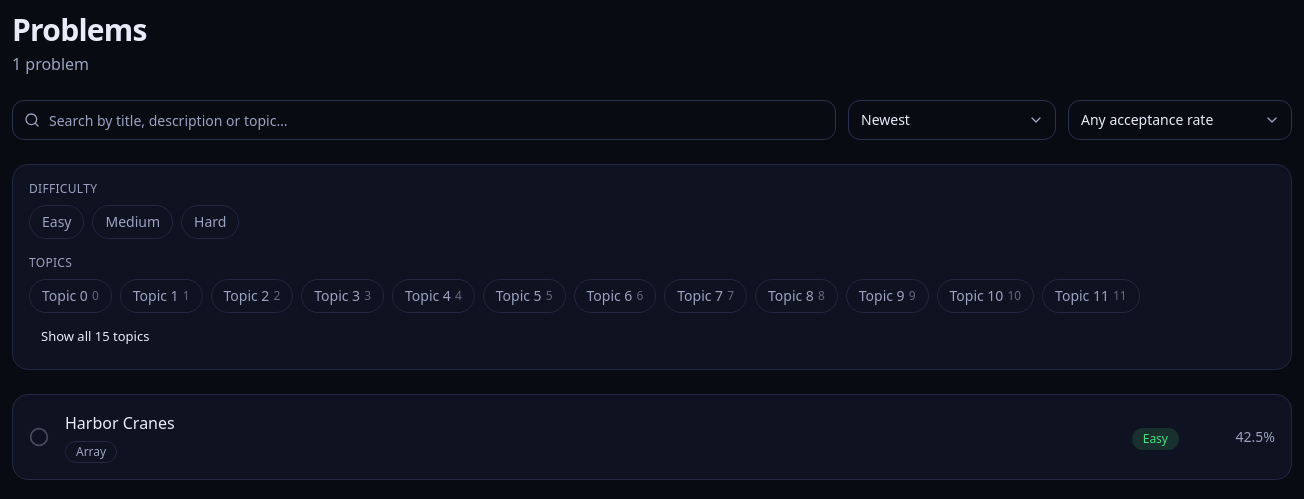
ProblemsBrowser › collapses the topic list and can show all of them
Check: the button "Topic 14" is not shown
What coordinates should you click on to do the following:
click the button "Show all 15 topics"
I would click on:
 (95, 337)
Its box is x1=29 y1=321 x2=161 y2=353.
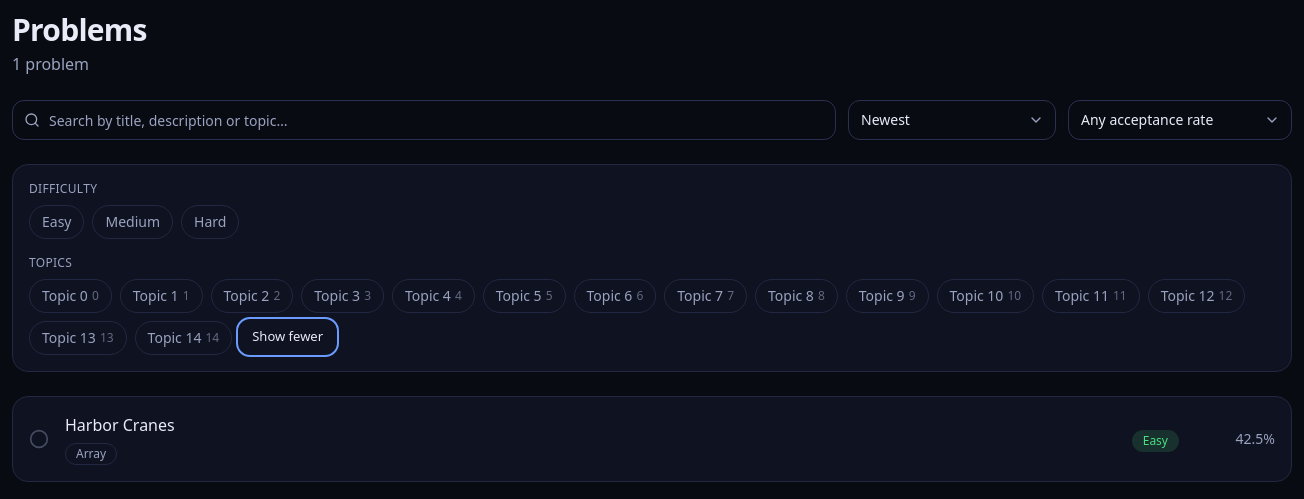
Check: the button "Topic 14 14" is shown, box x1=135 y1=321 x2=232 y2=355
